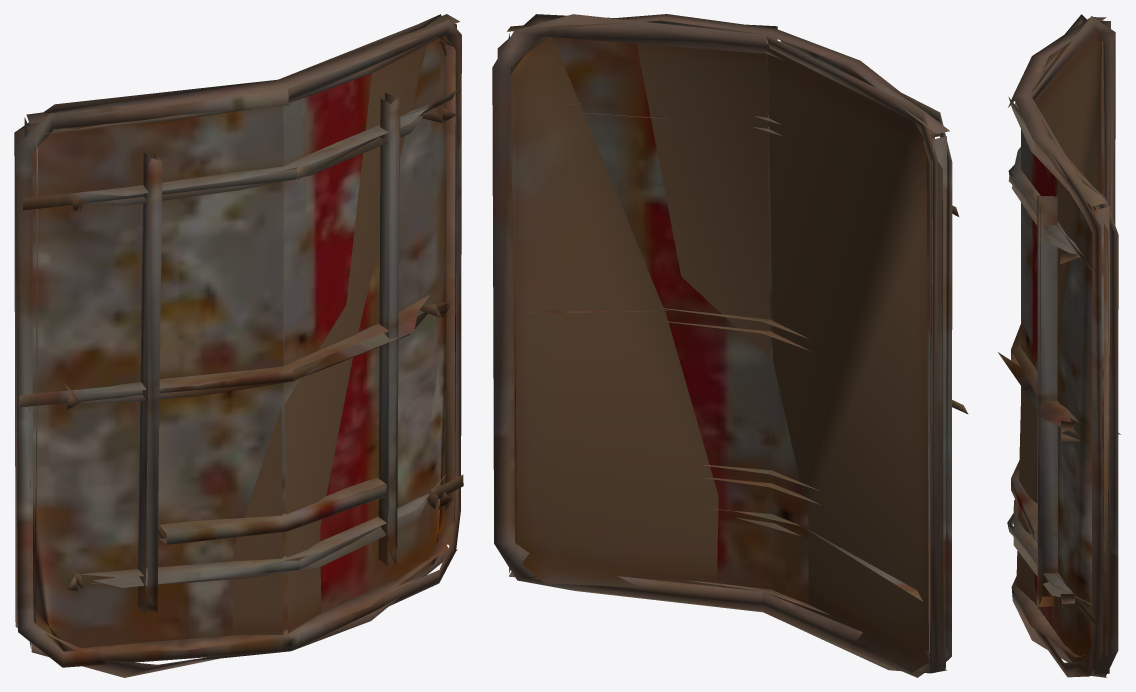
File: m_shield_clan_lod1.fbx
The picture shows the model from 3 angles, left to right: view 1: azimuth 30°, elevation 25°; view 2: azimuth 150°, elevation 25°; view 3: azimuth 270°, elevation 25°; orthographic projection. The views are drawn at different scales.
Parts seen in each view (by area): view 1: tripo_node_c49152cf-2c12-4759-a217-84dd415fa20a; view 2: tripo_node_c49152cf-2c12-4759-a217-84dd415fa20a; view 3: tripo_node_c49152cf-2c12-4759-a217-84dd415fa20a.
Part boxes in pixels (bbox=[...]): tripo_node_c49152cf-2c12-4759-a217-84dd415fa20a: bbox=[14, 14, 463, 677]; tripo_node_c49152cf-2c12-4759-a217-84dd415fa20a: bbox=[492, 14, 968, 677]; tripo_node_c49152cf-2c12-4759-a217-84dd415fa20a: bbox=[998, 14, 1120, 677].
Size of the model in its own units: 0.709 by 0.8643 by 0.1888.
